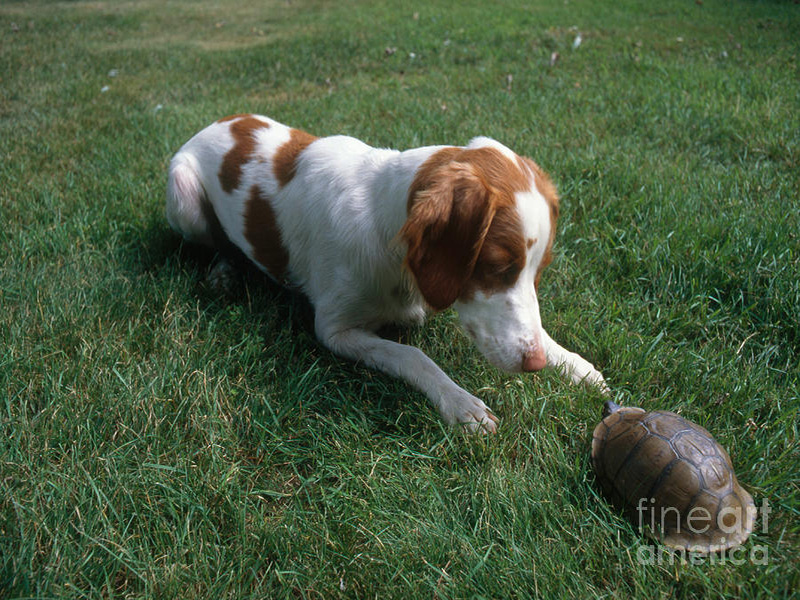cane da caccia: (160, 105, 575, 444)
